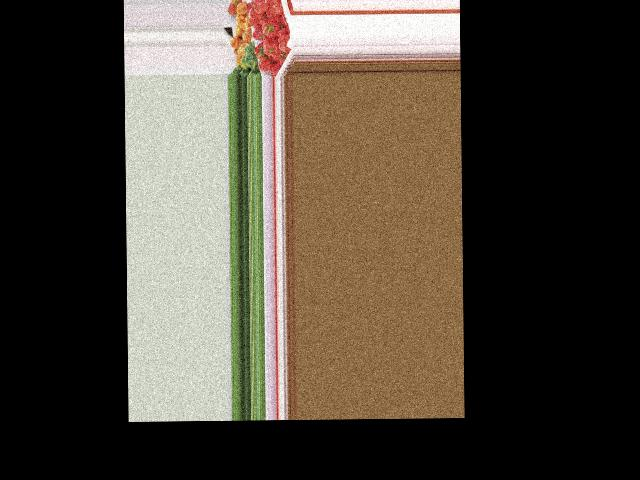bell_pepper: (277, 27, 291, 52)
